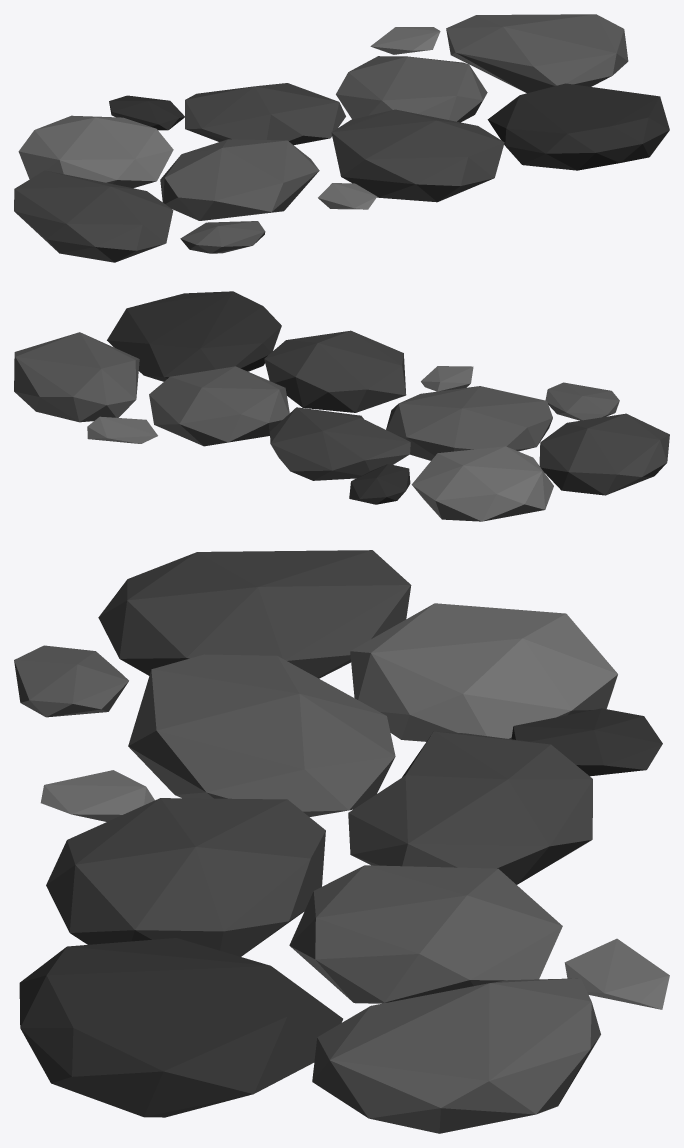
File: road-circular.fbx
3 views of the same model, one above another, from view 1: azimuth 30°, elevation 25°; view 2: azimuth 150°, elevation 25°; view 3: azimuth 270°, elevation 25° (orthographic). The views are drawn at different scales.
Visible parts, largest first — view 1: road-c-7, road-c-4, road-c-3, road-c-11, road-c-12, road-c-1, road-c-10, road-c-6, road-c-8, road-c-9, road-c-2, road-c-5; view 2: road-c-4, road-c-7, road-c-12, road-c-3, road-c-6, road-c-1, road-c-11, road-c-10, road-c-8, road-c-9, road-c-2, road-c-5; view 3: road-c-4, road-c-7, road-c-3, road-c-12, road-c-11, road-c-6, road-c-1, road-c-10, road-c-9, road-c-8, road-c-2, road-c-5.
Boxes of the visible parts, x1,y1,x2,y2 form: road-c-7: (331, 109, 504, 202); road-c-4: (487, 83, 669, 170); road-c-3: (446, 14, 628, 93); road-c-11: (14, 170, 173, 262); road-c-12: (160, 139, 319, 220); road-c-1: (18, 115, 173, 188); road-c-10: (185, 83, 345, 144); road-c-6: (336, 56, 487, 122); road-c-8: (180, 221, 265, 253); road-c-9: (109, 95, 184, 130); road-c-2: (370, 27, 440, 54); road-c-5: (318, 183, 377, 209); road-c-4: (107, 291, 281, 381); road-c-7: (264, 330, 406, 412); road-c-12: (386, 386, 552, 460); road-c-3: (14, 332, 139, 422); road-c-6: (149, 366, 289, 446); road-c-1: (411, 446, 553, 521); road-c-11: (539, 413, 669, 495); road-c-10: (270, 407, 410, 480); road-c-8: (545, 382, 619, 420); road-c-9: (349, 464, 410, 504); road-c-2: (87, 416, 157, 443); road-c-5: (421, 366, 473, 391); road-c-4: (19, 938, 342, 1117); road-c-7: (46, 798, 325, 956); road-c-3: (312, 978, 600, 1133); road-c-12: (128, 654, 395, 816); road-c-11: (98, 550, 411, 678); road-c-6: (289, 865, 562, 1003); road-c-1: (350, 603, 617, 741); road-c-10: (348, 731, 592, 884); road-c-9: (511, 708, 662, 776); road-c-8: (14, 645, 128, 717); road-c-2: (564, 938, 669, 1009); road-c-5: (40, 770, 154, 821).
Bounding box in the file's own units: 401 × 40.81 × 200.
